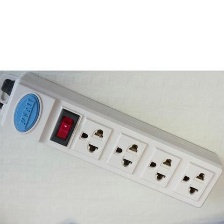three_eye_plug: (0, 70, 224, 210)
